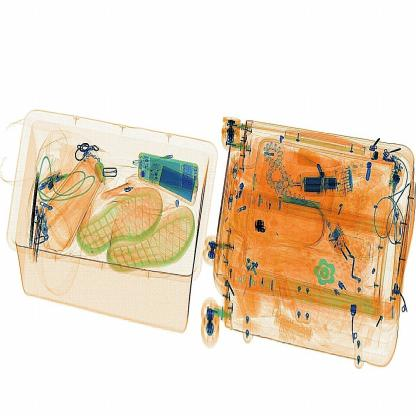scissors: (253, 215, 269, 235)
